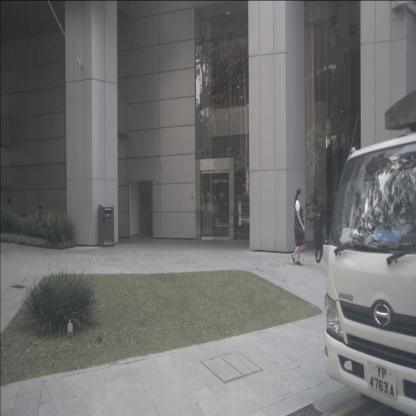human-pedestrian-adult: (291, 188, 306, 266), (34, 206, 44, 237)
vehicle-truck: (324, 88, 416, 416)
